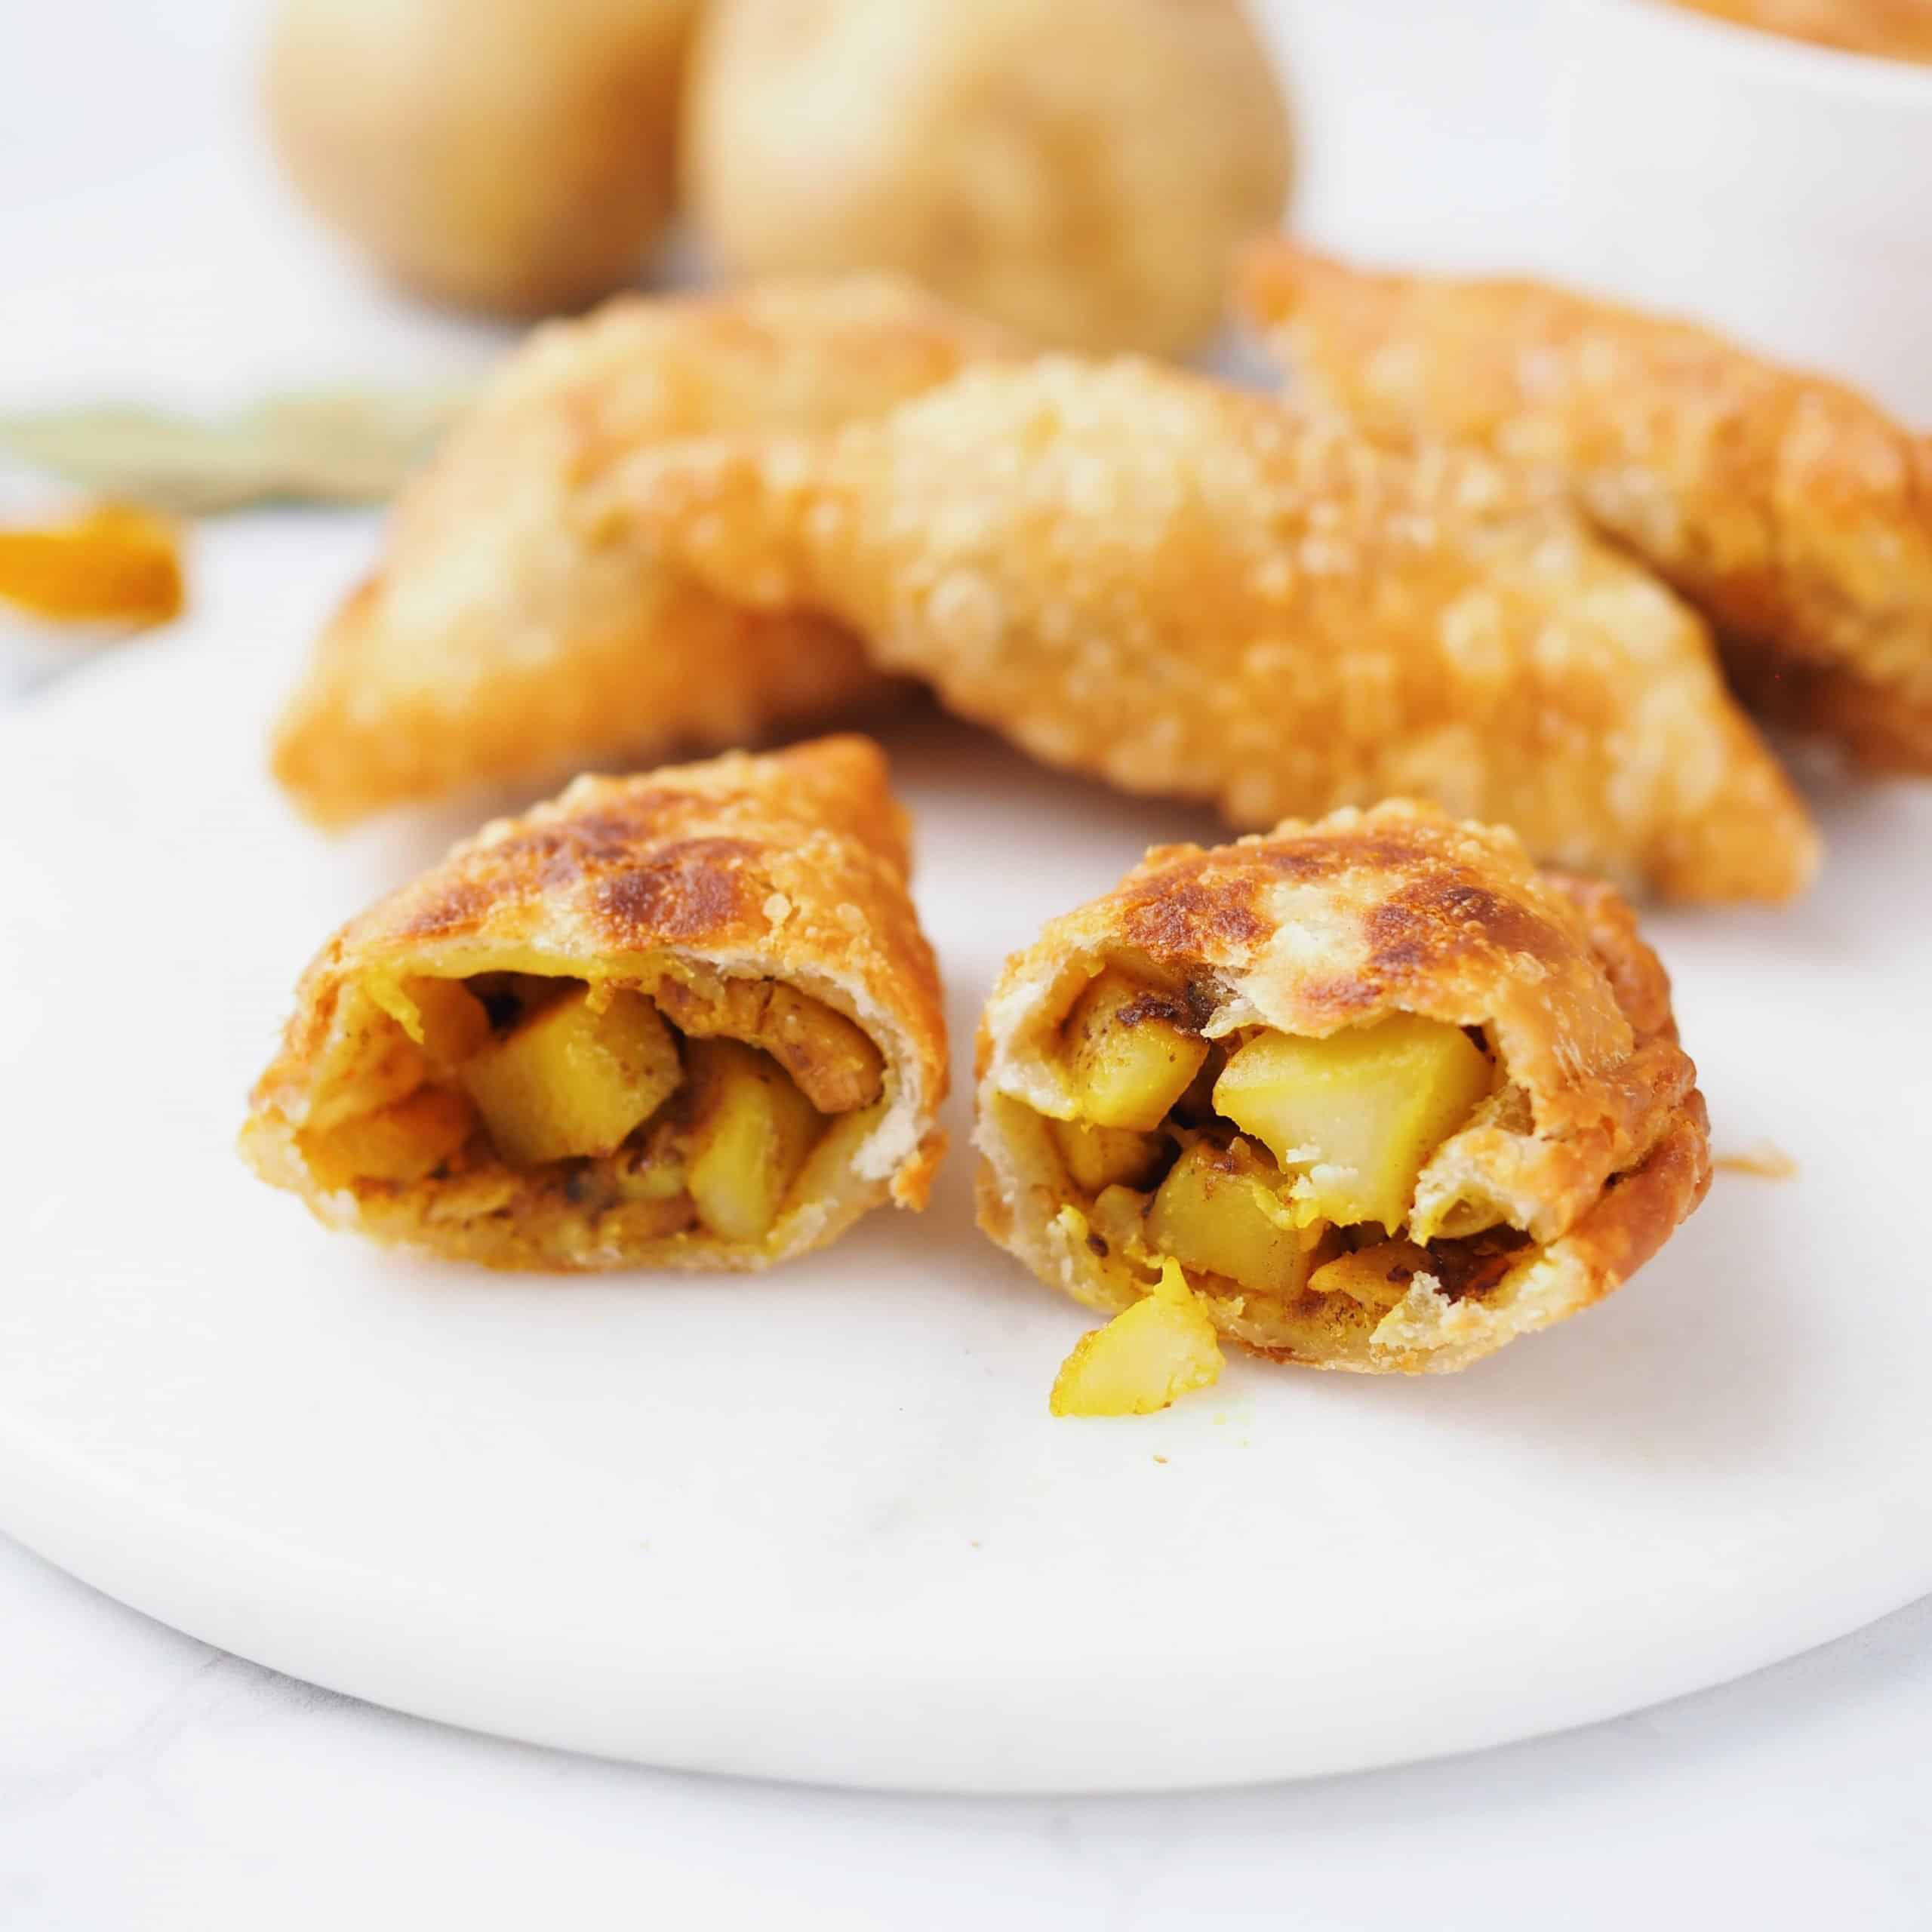Curry Puff: (686, 364, 1851, 927), (955, 750, 1739, 1431), (264, 182, 1109, 812), (1274, 182, 1932, 787), (327, 711, 936, 1320)
